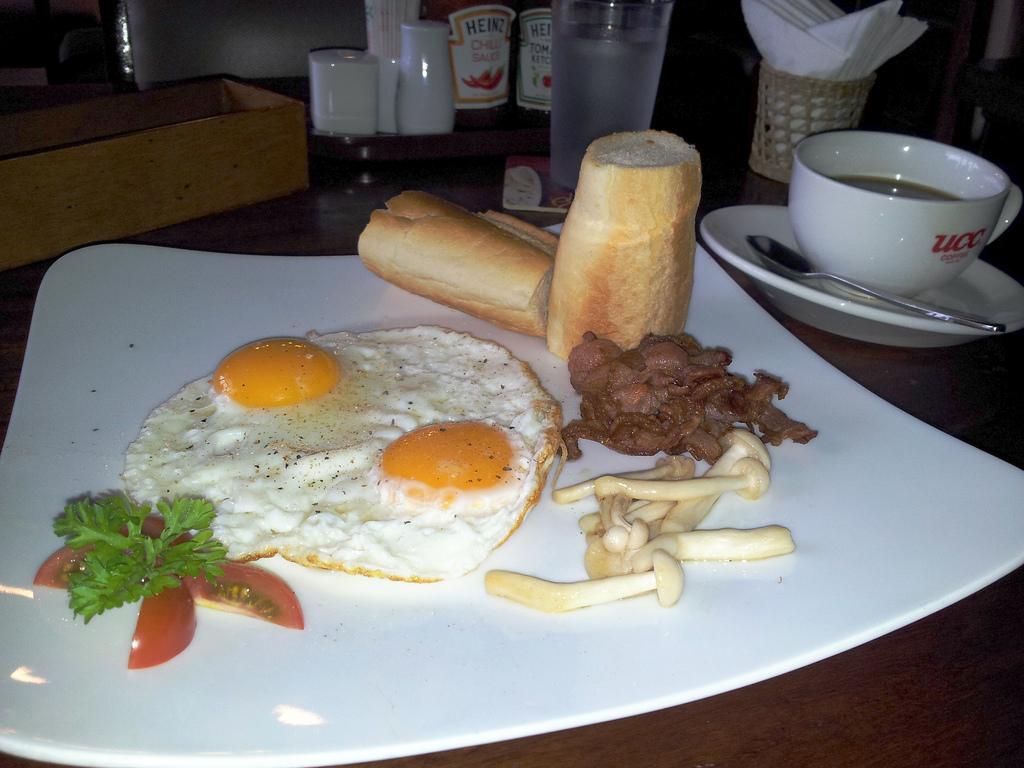fried egg: (140, 410, 552, 549), (143, 333, 549, 423)
glass of water: (558, 5, 659, 183)
slice of bread: (578, 123, 694, 361), (369, 188, 557, 330)
